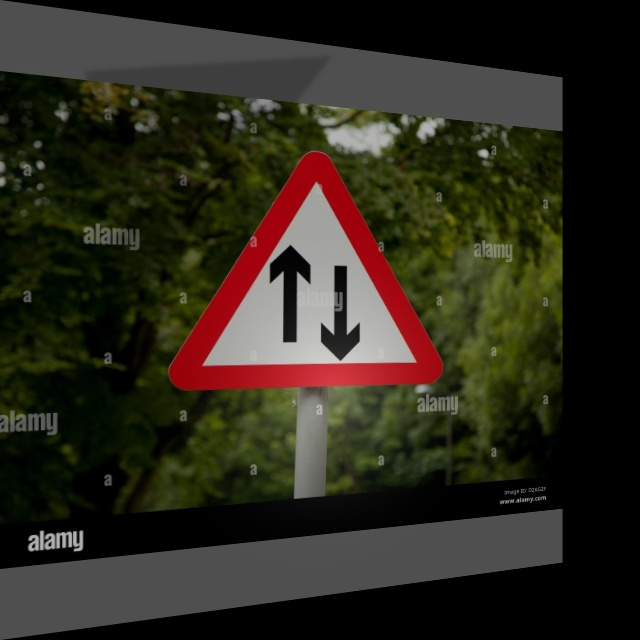Mandatory_Two_Way_Traffic: (166, 141, 442, 392)
